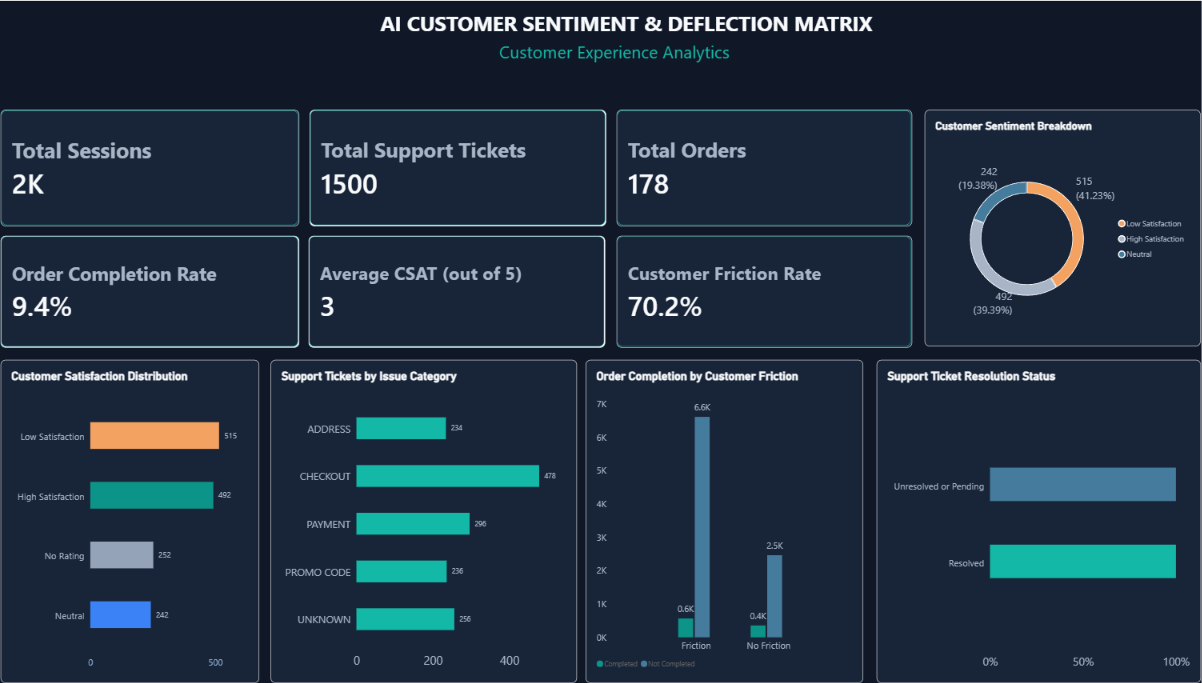

This screenshot's page, from the dashboard's own definition file:
{"tool":"powerbi","page":{"name":"Page 1","canvas":[1920,1080],"ordinal":0},"visuals":[{"type":"cardVisual","fields":{"Data":["AI_Customer_Experience_Final.Total Sessions"]},"box":[17.4,169.2,465.7,181.4],"z":0},{"type":"cardVisual","fields":{"Data":["AI_Customer_Experience_Final.Total Support Tickets"]},"box":[498.8,169.2,462.2,181.4],"z":1000},{"type":"cardVisual","fields":{"Data":["AI_Customer_Experience_Final.Order Completion Rate"]},"box":[17.4,366.3,465.7,174.4],"z":2000},{"type":"cardVisual","fields":{"Data":["AI_Customer_Experience_Final.Customer Friction Rate"]},"box":[976.7,366.3,460.5,174.4],"z":3000},{"type":"cardVisual","fields":{"Data":["AI_Customer_Experience_Final.Total Orders"]},"box":[976.7,169.2,460.5,181.4],"z":4000},{"type":"cardVisual","fields":{"Data":["AI_Customer_Experience_Final.Average CSAT"]},"box":[497.1,366.3,462.2,174.4],"z":5000},{"type":"clusteredBarChart","title":"Customer Satisfaction Distribution","fields":{"Category":["AI_Customer_Experience_Final.CSAT_Category"],"Y":["Count(AI_Customer_Experience_Final.ticket_id)"]},"box":[17.4,559.9,402.9,504.1],"z":6000},{"type":"clusteredBarChart","title":"Support Tickets by Issue Category","fields":{"Category":["AI_Customer_Experience_Final.issue_category_raw"],"Y":["Count(AI_Customer_Experience_Final.ticket_id)"]},"box":[437.8,559.9,477.9,504.1],"z":7000},{"type":"clusteredColumnChart","title":"Order Completion by Customer Friction","fields":{"Category":["AI_Customer_Experience_Final.Friction_Status"],"Series":["AI_Customer_Experience_Final.Order_Status"],"Y":["CountNonNull(AI_Customer_Experience_Final.session_id)"]},"box":[929.7,559.9,432.6,504.1],"z":8000},{"type":"textbox","box":[0,0,1920.4,144.8],"z":9000},{"type":"donutChart","title":"Customer Sentiment Breakdown","fields":{"Category":["AI_Customer_Experience_Final.CSAT_Category"],"Y":["Count(AI_Customer_Experience_Final.ticket_id)"]},"box":[1458.1,169.2,430.2,368.4],"z":10000},{"type":"hundredPercentStackedBarChart","title":"Support Ticket Resolution Status","fields":{"Category":["AI_Customer_Experience_Final.Resolution_Category"],"Y":["CountNonNull(AI_Customer_Experience_Final.ticket_id)"]},"box":[1383.1,559.9,505.8,504.1],"z":11000}]}

Visuals, with their boxes in screenshot pixels (x1, y1, x2, y2), scaled from the page's 1920x1080 canvas onto the 1202x683 screenshot:
cardVisual - AI_Customer_Experience_Final.Total Sessions: x1=11, y1=107, x2=302, y2=222
cardVisual - AI_Customer_Experience_Final.Total Support Tickets: x1=312, y1=107, x2=602, y2=222
cardVisual - AI_Customer_Experience_Final.Order Completion Rate: x1=11, y1=232, x2=302, y2=342
cardVisual - AI_Customer_Experience_Final.Customer Friction Rate: x1=611, y1=232, x2=900, y2=342
cardVisual - AI_Customer_Experience_Final.Total Orders: x1=611, y1=107, x2=900, y2=222
cardVisual - AI_Customer_Experience_Final.Average CSAT: x1=311, y1=232, x2=601, y2=342
"Customer Satisfaction Distribution" clusteredBarChart: x1=11, y1=354, x2=263, y2=673
"Support Tickets by Issue Category" clusteredBarChart: x1=274, y1=354, x2=573, y2=673
"Order Completion by Customer Friction" clusteredColumnChart: x1=582, y1=354, x2=853, y2=673
textbox: x1=0, y1=0, x2=1201, y2=92
"Customer Sentiment Breakdown" donutChart: x1=913, y1=107, x2=1182, y2=340
"Support Ticket Resolution Status" hundredPercentStackedBarChart: x1=866, y1=354, x2=1183, y2=673
